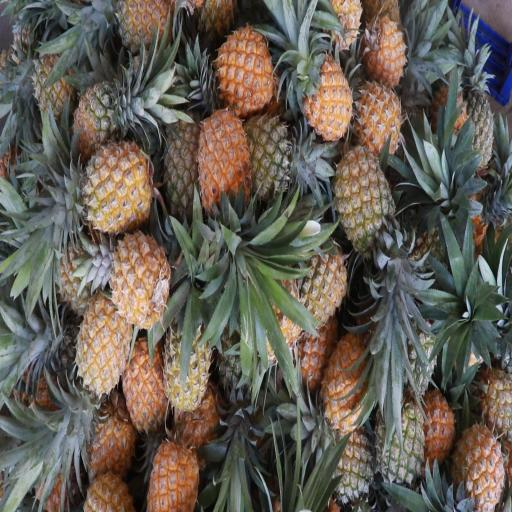------------------------------: (328, 136, 393, 265), (62, 72, 138, 166), (162, 301, 212, 417), (240, 108, 300, 204), (317, 420, 376, 512)
Pineapple - v8 v1: (66, 134, 160, 241), (189, 101, 252, 231), (106, 228, 169, 341), (70, 287, 131, 399), (318, 315, 376, 432), (291, 41, 356, 139), (290, 232, 350, 336), (144, 403, 201, 510), (456, 396, 507, 512), (214, 20, 274, 116), (348, 75, 406, 171), (119, 337, 171, 439), (361, 3, 413, 77)
